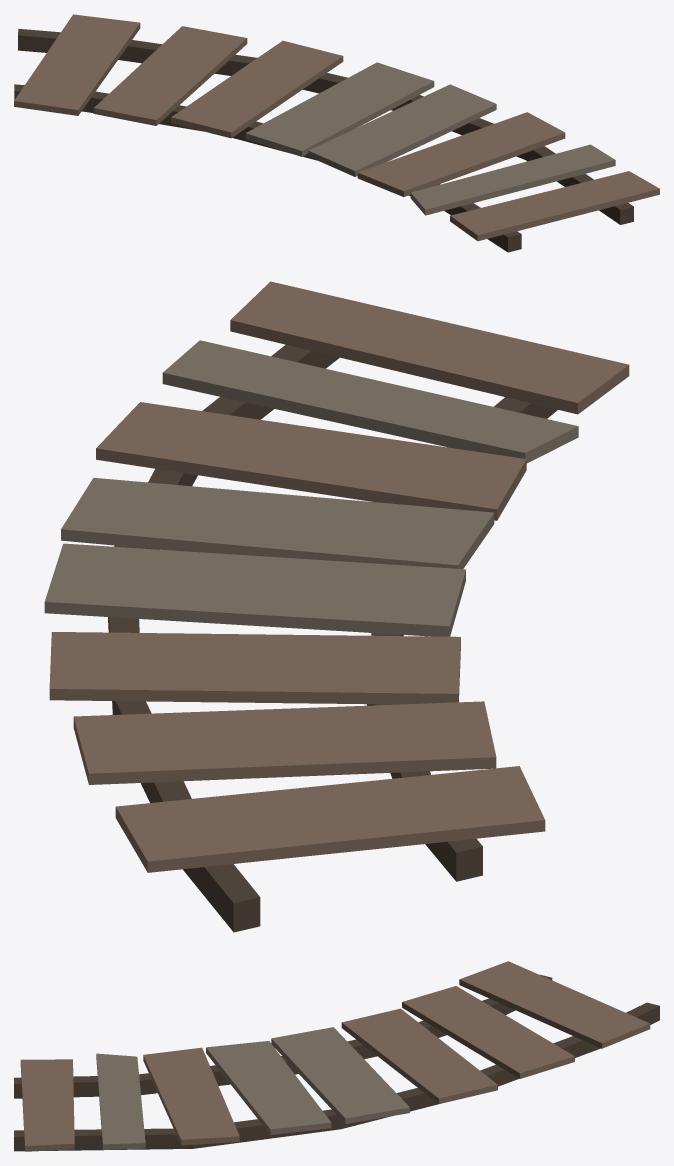
The model's file is Mines Runway Curve Half.glb.
The picture shows the model from 3 angles, top to bottom: view 1: azimuth 30°, elevation 25°; view 2: azimuth 150°, elevation 25°; view 3: azimuth 270°, elevation 25°; orthographic projection. The views are drawn at different scales.
Parts seen in each view (by area): view 1: Mines Runway Curve Half; view 2: Mines Runway Curve Half; view 3: Mines Runway Curve Half.
Boxes of the visible parts, x1,y1,x2,y2 form: Mines Runway Curve Half: [14, 14, 659, 252]; Mines Runway Curve Half: [44, 281, 629, 932]; Mines Runway Curve Half: [14, 961, 659, 1151].
Size of what is drawn, in the model's own units: 2.19 by 0.1118 by 3.24.
Materials: 1 (1 with a texture image).
